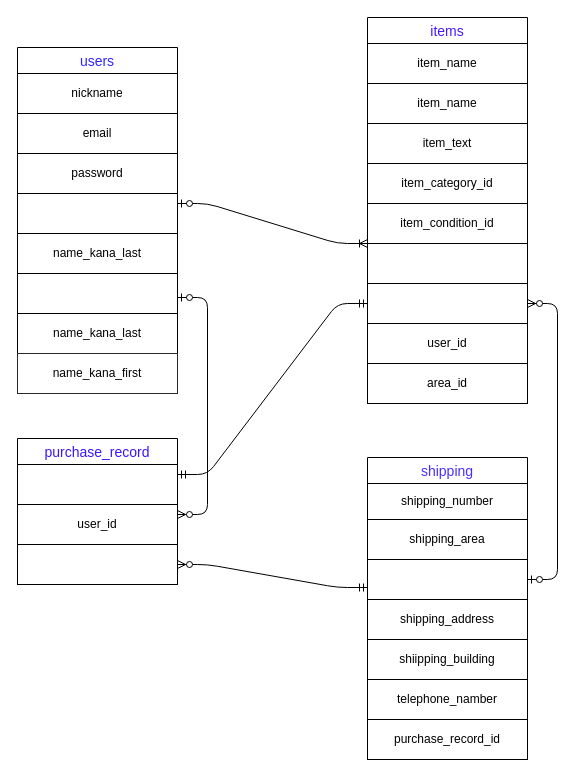
The diagram is 584 pixels wide and 777 high, and some of its shapes have lost their labels. The shapes that lost their labels are listed below. From the top down, each one's centre as x and y in pixels, then its label:
[97,213]: name_kanji_first
[447,263]: postage_included_id
[97,293]: birth
[447,303]: price
[97,484]: item_id
[97,564]: shipping_id
[447,579]: shipping_city
